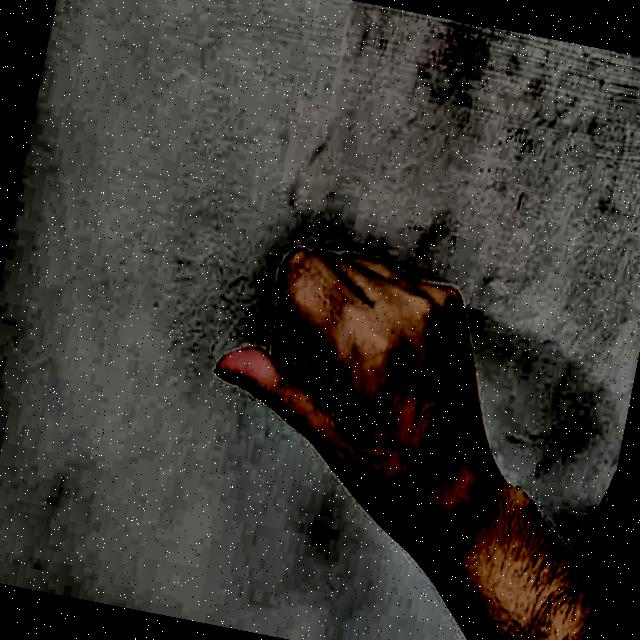Ay: (152, 173, 508, 609)
